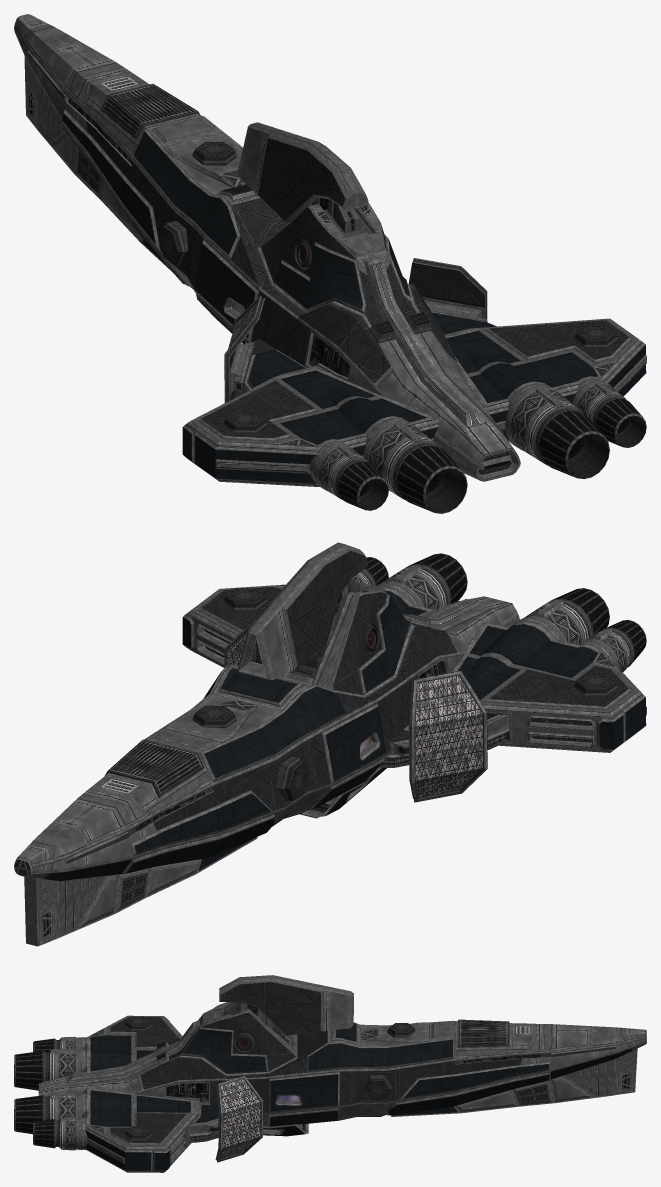
The model's file is corvette.obj.
3 views of the same model, one above another, from view 1: azimuth 30°, elevation 25°; view 2: azimuth 150°, elevation 25°; view 3: azimuth 270°, elevation 25° (orthographic). The views are drawn at different scales.
Parts seen in each view (by area): view 1: Hull2_Mesh.109, Hull3_Mesh.110, Hull1_Mesh.108, Equip1_Mesh.111; view 2: Hull2_Mesh.109, Hull3_Mesh.110, Hull1_Mesh.108, Equip1_Mesh.111, Shield_Mesh.114, Intake_Mesh.112; view 3: Hull2_Mesh.109, Hull3_Mesh.110, Hull1_Mesh.108, Equip1_Mesh.111, Shield_Mesh.114.
Boxes of the visible parts, x1,y1,x2,y2 form: Hull2_Mesh.109: (14,14,646,497); Hull3_Mesh.110: (62,113,646,483); Hull1_Mesh.108: (87,121,628,437); Equip1_Mesh.111: (27,52,646,513); Hull2_Mesh.109: (14,542,646,946); Hull3_Mesh.110: (45,590,646,881); Hull1_Mesh.108: (153,551,628,830); Equip1_Mesh.111: (67,553,646,906); Shield_Mesh.114: (226,632,482,797); Intake_Mesh.112: (204,629,592,765); Hull2_Mesh.109: (38,975,646,1172); Hull3_Mesh.110: (85,1023,631,1170); Hull1_Mesh.108: (111,982,595,1143); Equip1_Mesh.111: (14,1002,615,1160); Shield_Mesh.114: (220,1079,260,1159).
Size of the model in its own units: 1.49 by 0.8262 by 2.96.
Materials: 7 (7 with a texture image).
